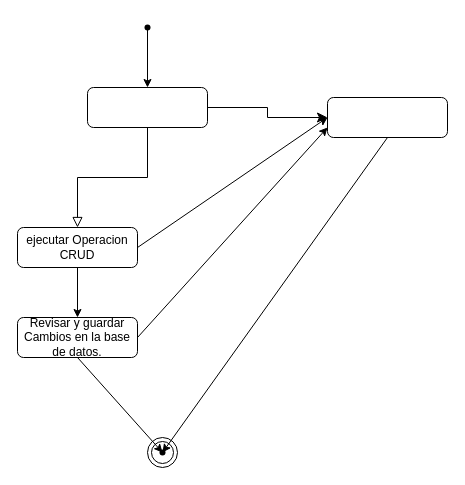
The diagram is 465 pixels wide and 485 high, and some of its shapes have lost their labels. The centre of each missing label's shape, as x and y in pixels:
Cancelar Operación: point 387,117
Elegir Opcion CRUD, usuarios: point 147,107
